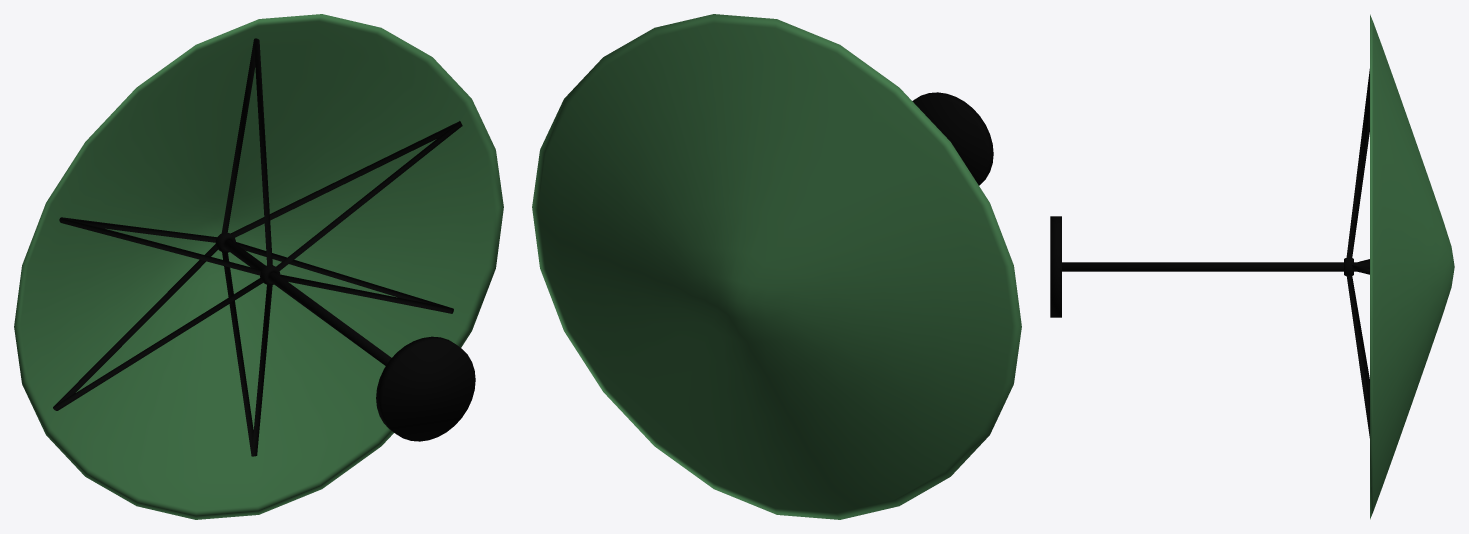
File: Parasol_Green.fbx
The picture shows the model from 3 angles, left to right: view 1: azimuth 30°, elevation 25°; view 2: azimuth 150°, elevation 25°; view 3: azimuth 270°, elevation 25°; orthographic projection. The views are drawn at different scales.
Visible parts, largest first — view 1: Torus.001; view 2: Torus.001; view 3: Torus.001.
Boxes of the visible parts, <box> form: Torus.001: <box>14,14,503,519</box>; Torus.001: <box>532,14,1021,519</box>; Torus.001: <box>1050,14,1454,519</box>.
Bounding box in the file's own units: 1110 × 1074 × 844.
